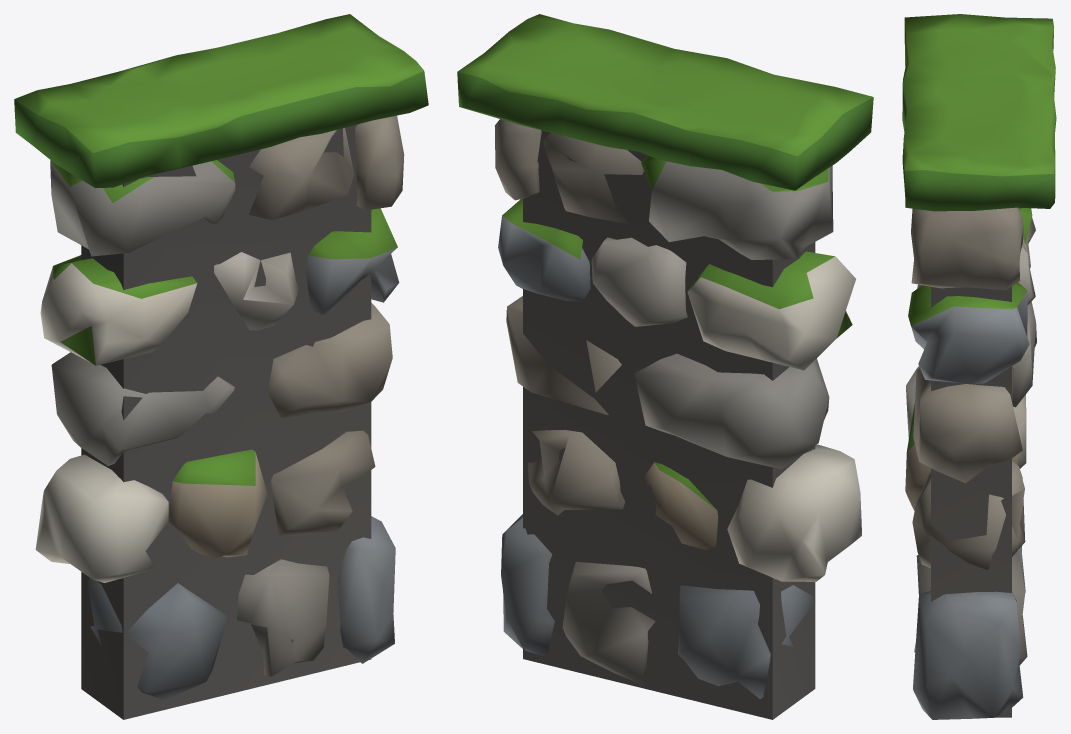
The model's file is glade_retaining_seg_b.glb.
3 views of the same model, side by side, from view 1: azimuth 30°, elevation 25°; view 2: azimuth 150°, elevation 25°; view 3: azimuth 270°, elevation 25° (orthographic). The views are drawn at different scales.
Visible parts, largest first — view 1: glade_retaining_seg_b; view 2: glade_retaining_seg_b; view 3: glade_retaining_seg_b.
Part boxes in pixels (box(x1,y1,x2,y2)): glade_retaining_seg_b: box(14, 14, 428, 719); glade_retaining_seg_b: box(457, 14, 873, 719); glade_retaining_seg_b: box(902, 14, 1056, 719).
Bounding box in the file's own units: 5.29 × 8.68 × 2.13.
